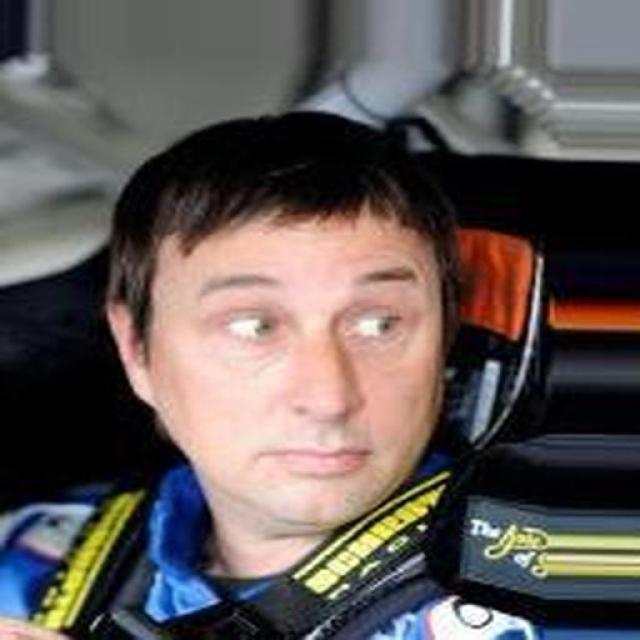bareface: (120, 152, 463, 540)
